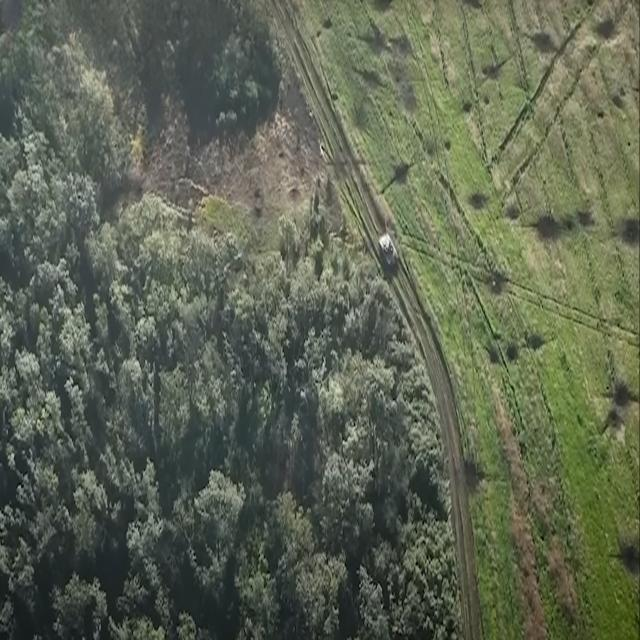APC: (377, 232, 401, 273)
